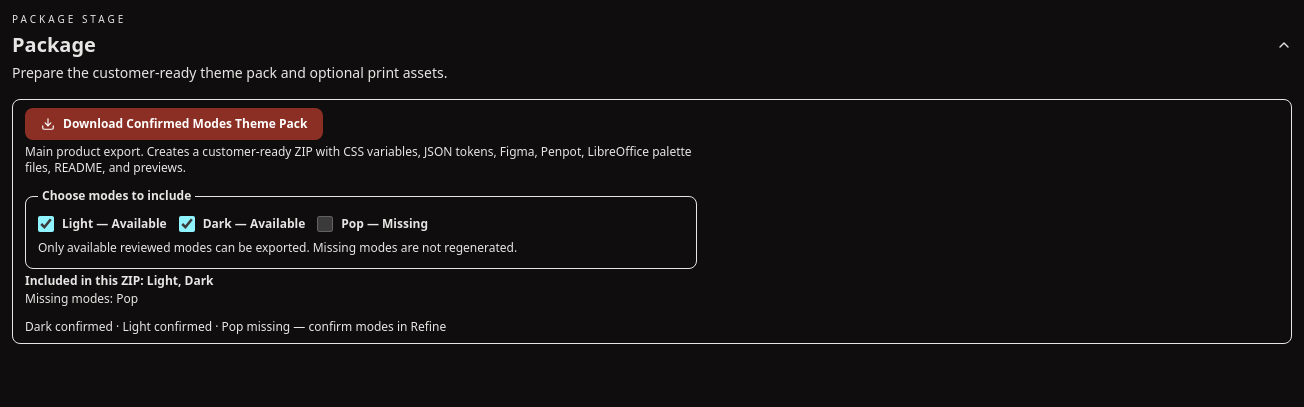
Test case: PackageStage › shows partial-family success after export
Click the button "Download Confirmed Modes Theme Pack" at (174, 124), box [25,108,323,140]
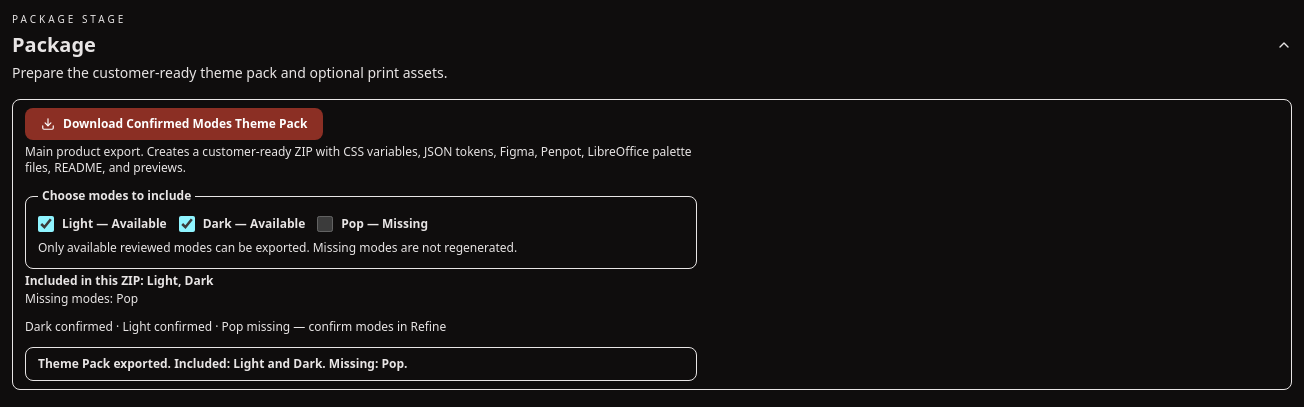
Expected: the message reads "Theme Pack exported. Included: Light and Dark. Missing: Pop.", [38,355,407,372]
